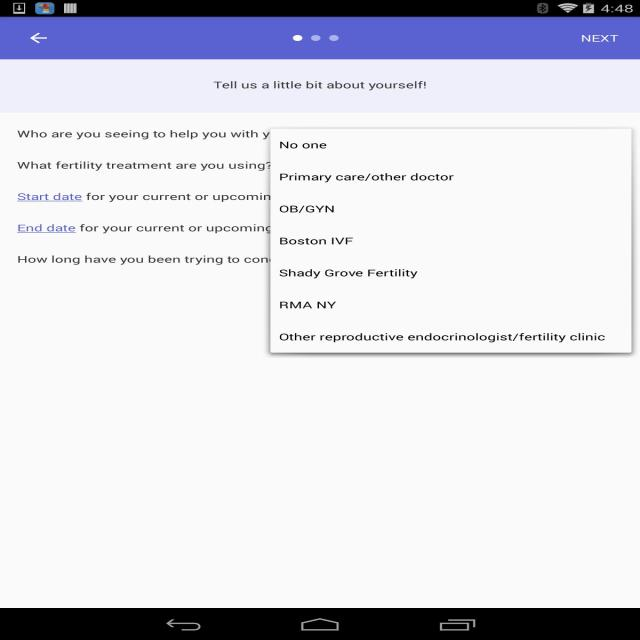button: (270, 254, 630, 288), (271, 318, 628, 351), (272, 159, 630, 190), (272, 191, 629, 222), (270, 288, 630, 318), (271, 224, 630, 252), (271, 130, 627, 158), (571, 27, 627, 49), (24, 28, 54, 48)
heading: (209, 77, 432, 94)
link: (12, 221, 76, 234), (15, 192, 85, 202)
text: (12, 220, 270, 239), (14, 159, 268, 178), (14, 253, 271, 271), (17, 128, 271, 146), (14, 190, 273, 206)
